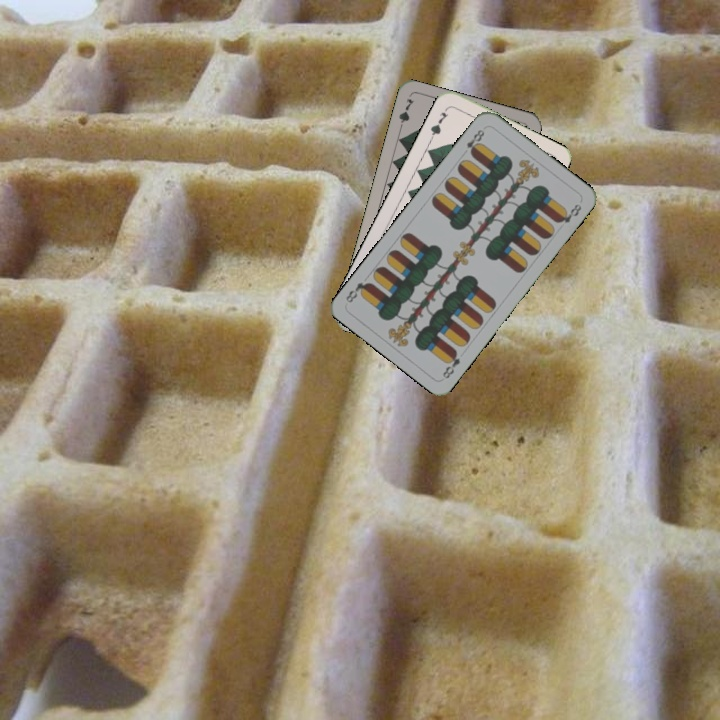E8: (438, 346, 463, 381), (462, 125, 487, 158)
G7: (427, 104, 451, 141), (395, 94, 416, 134)
